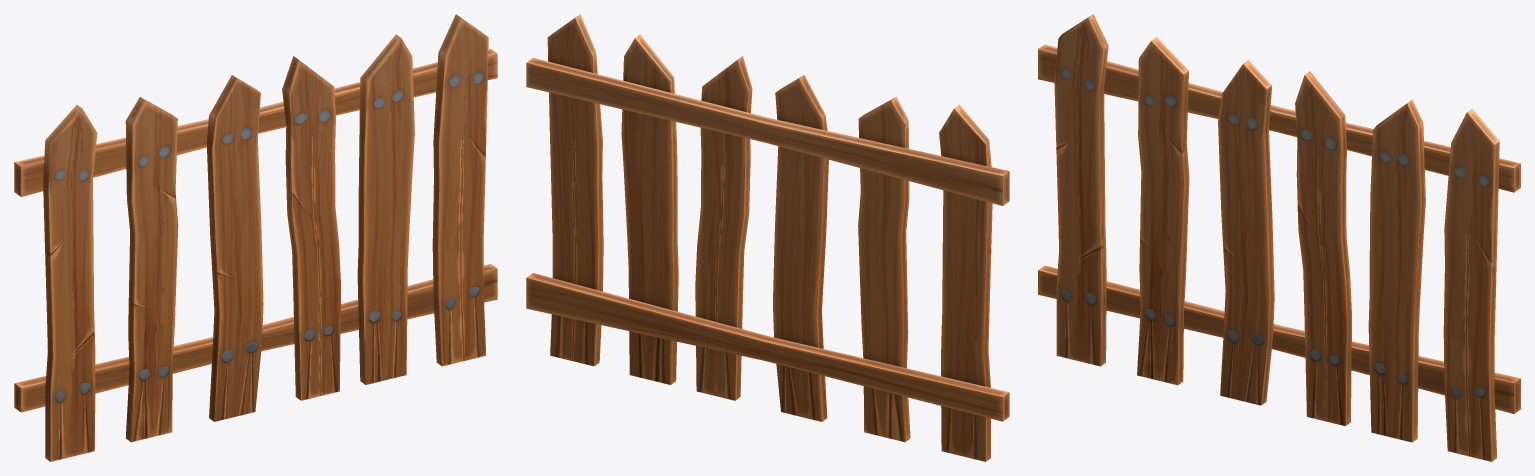
File: Fences02_1.FBX
3 renders of one model, left to right at view 1: azimuth 30°, elevation 25°; view 2: azimuth 150°, elevation 25°; view 3: azimuth 330°, elevation 25°, orthographic.
Visible parts, largest first — view 1: Fences02_1; view 2: Fences02_1; view 3: Fences02_1.
Boxes of the visible parts, x1=… form: Fences02_1: x1=14, y1=14, x2=497, y2=461; Fences02_1: x1=526, y1=14, x2=1009, y2=461; Fences02_1: x1=1038, y1=14, x2=1520, y2=461.
Size of what is drawn, in the model's own units: 1.75 by 1.21 by 0.078.
